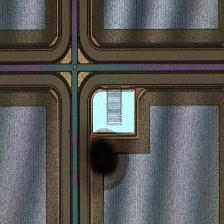PARTICLE: (79, 126, 132, 194)
